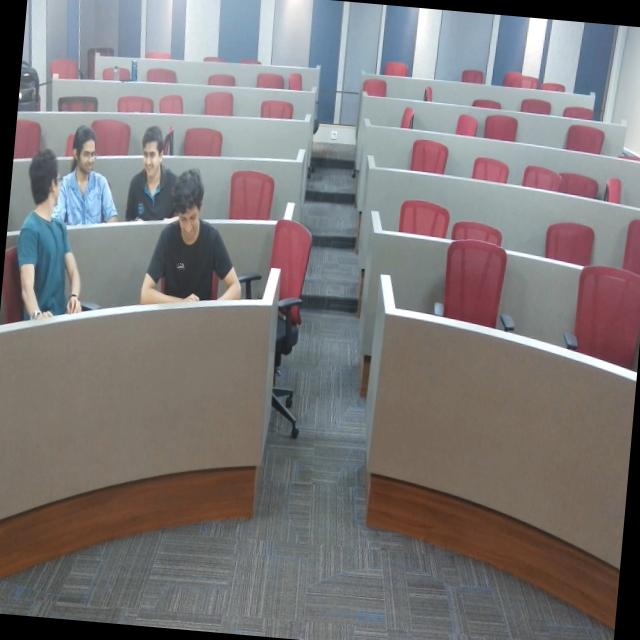cheating: (11, 134, 84, 348), (118, 118, 176, 218)
non-cheating: (144, 166, 238, 360), (54, 104, 118, 240)
